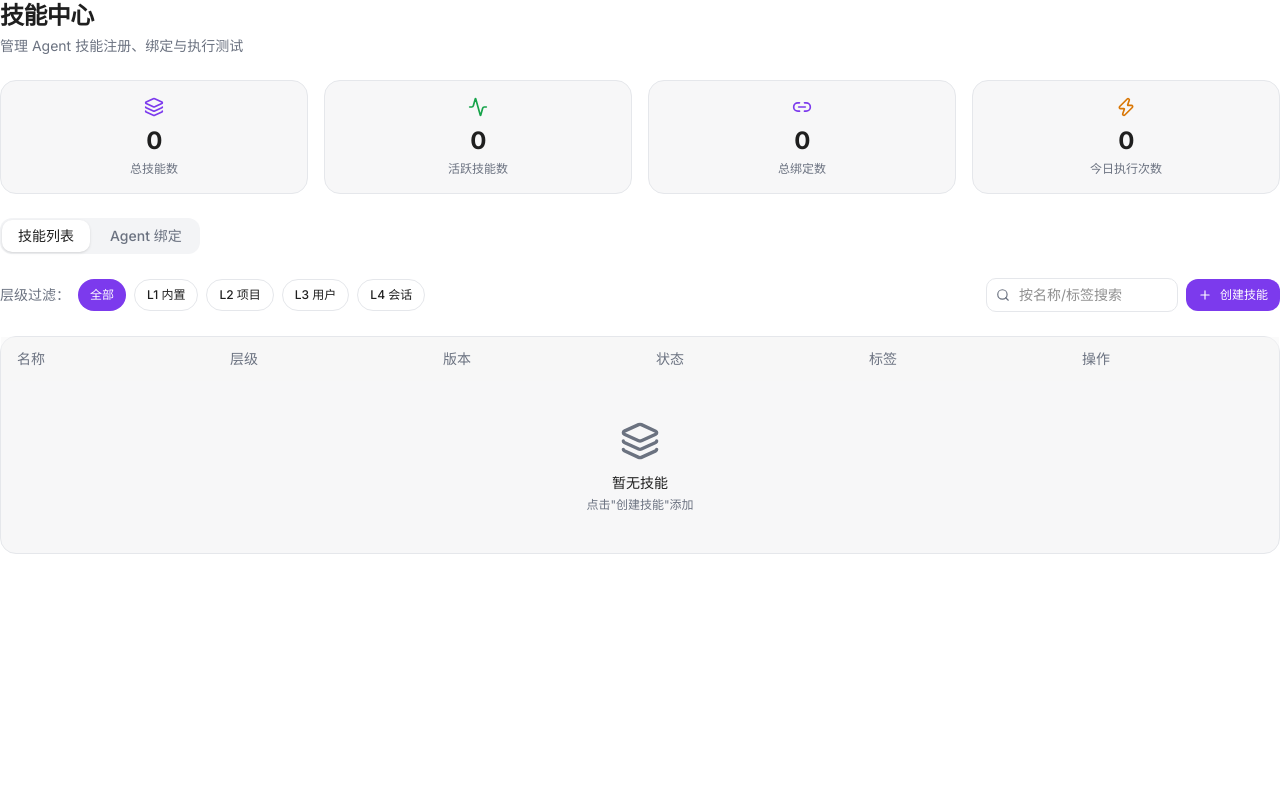
SkillHubPage › shows create skill form when clicking create button
Click the button "创建技能": (1233, 295) left=1186, top=279, right=1279, bottom=311
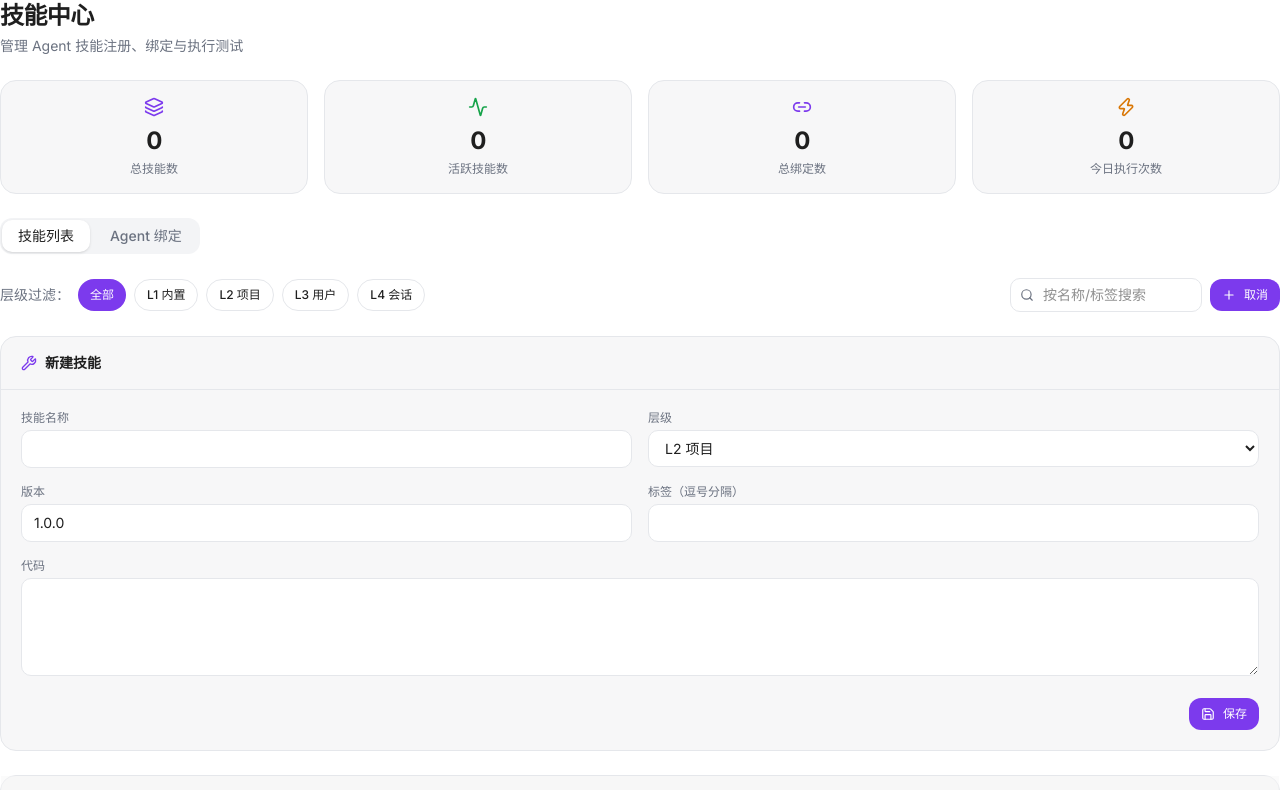
expect the field named "技能名称" is shown: met, box left=21, top=430, right=632, bottom=468
expect the dropdown named "层级" is shown: met, box left=648, top=430, right=1259, bottom=467
expect the text box named "代码" is shown: met, box left=21, top=578, right=1259, bottom=676
